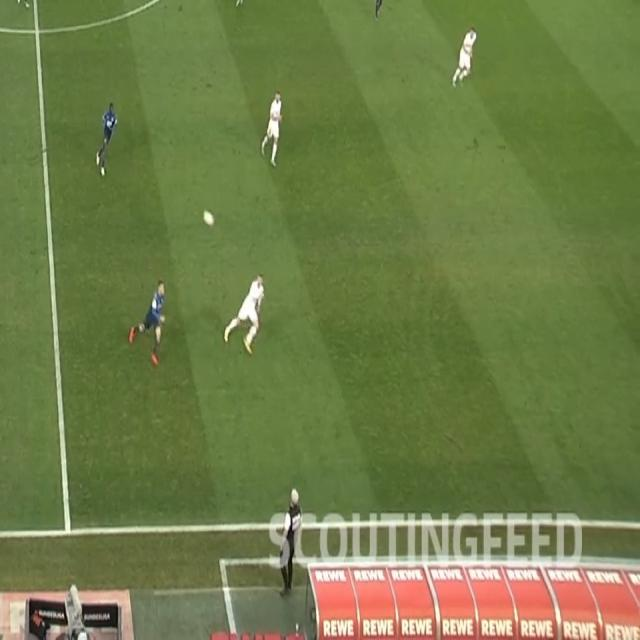ball: (201, 209, 216, 228)
